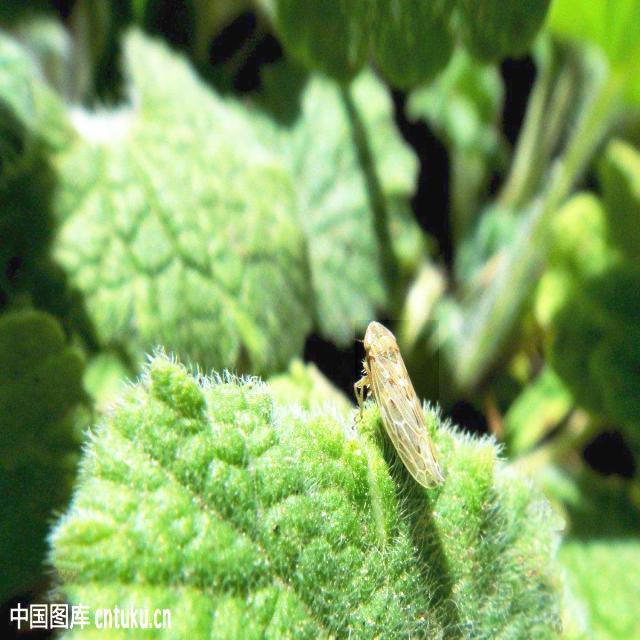green-leafhopper: (355, 320, 439, 499)
